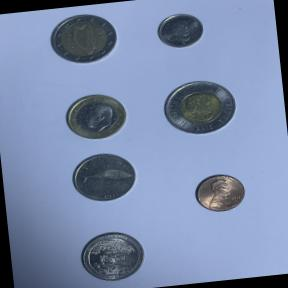1 Euro-B: (61, 87, 130, 144)
2 Euro-B: (44, 9, 123, 72)
Canada-10cent-B: (153, 9, 210, 55)
Canada-2Dollar-B: (158, 74, 243, 140)
Croatia-2Kune-B: (66, 148, 141, 208)
US-1cent-B: (190, 169, 249, 218)
US-25cent-B: (73, 226, 151, 288)
